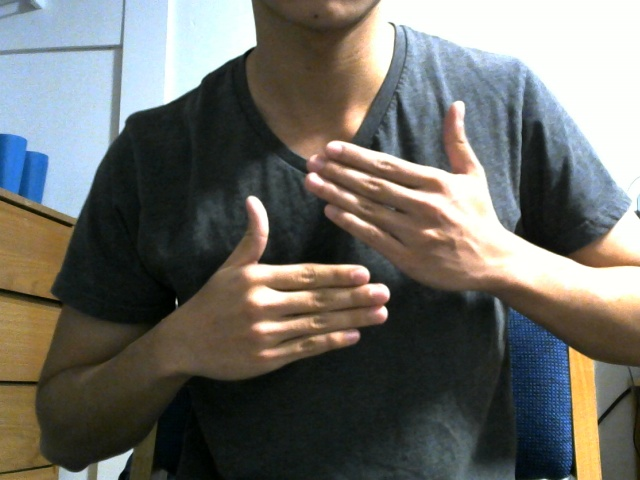Enjoy: (165, 87, 508, 385)
